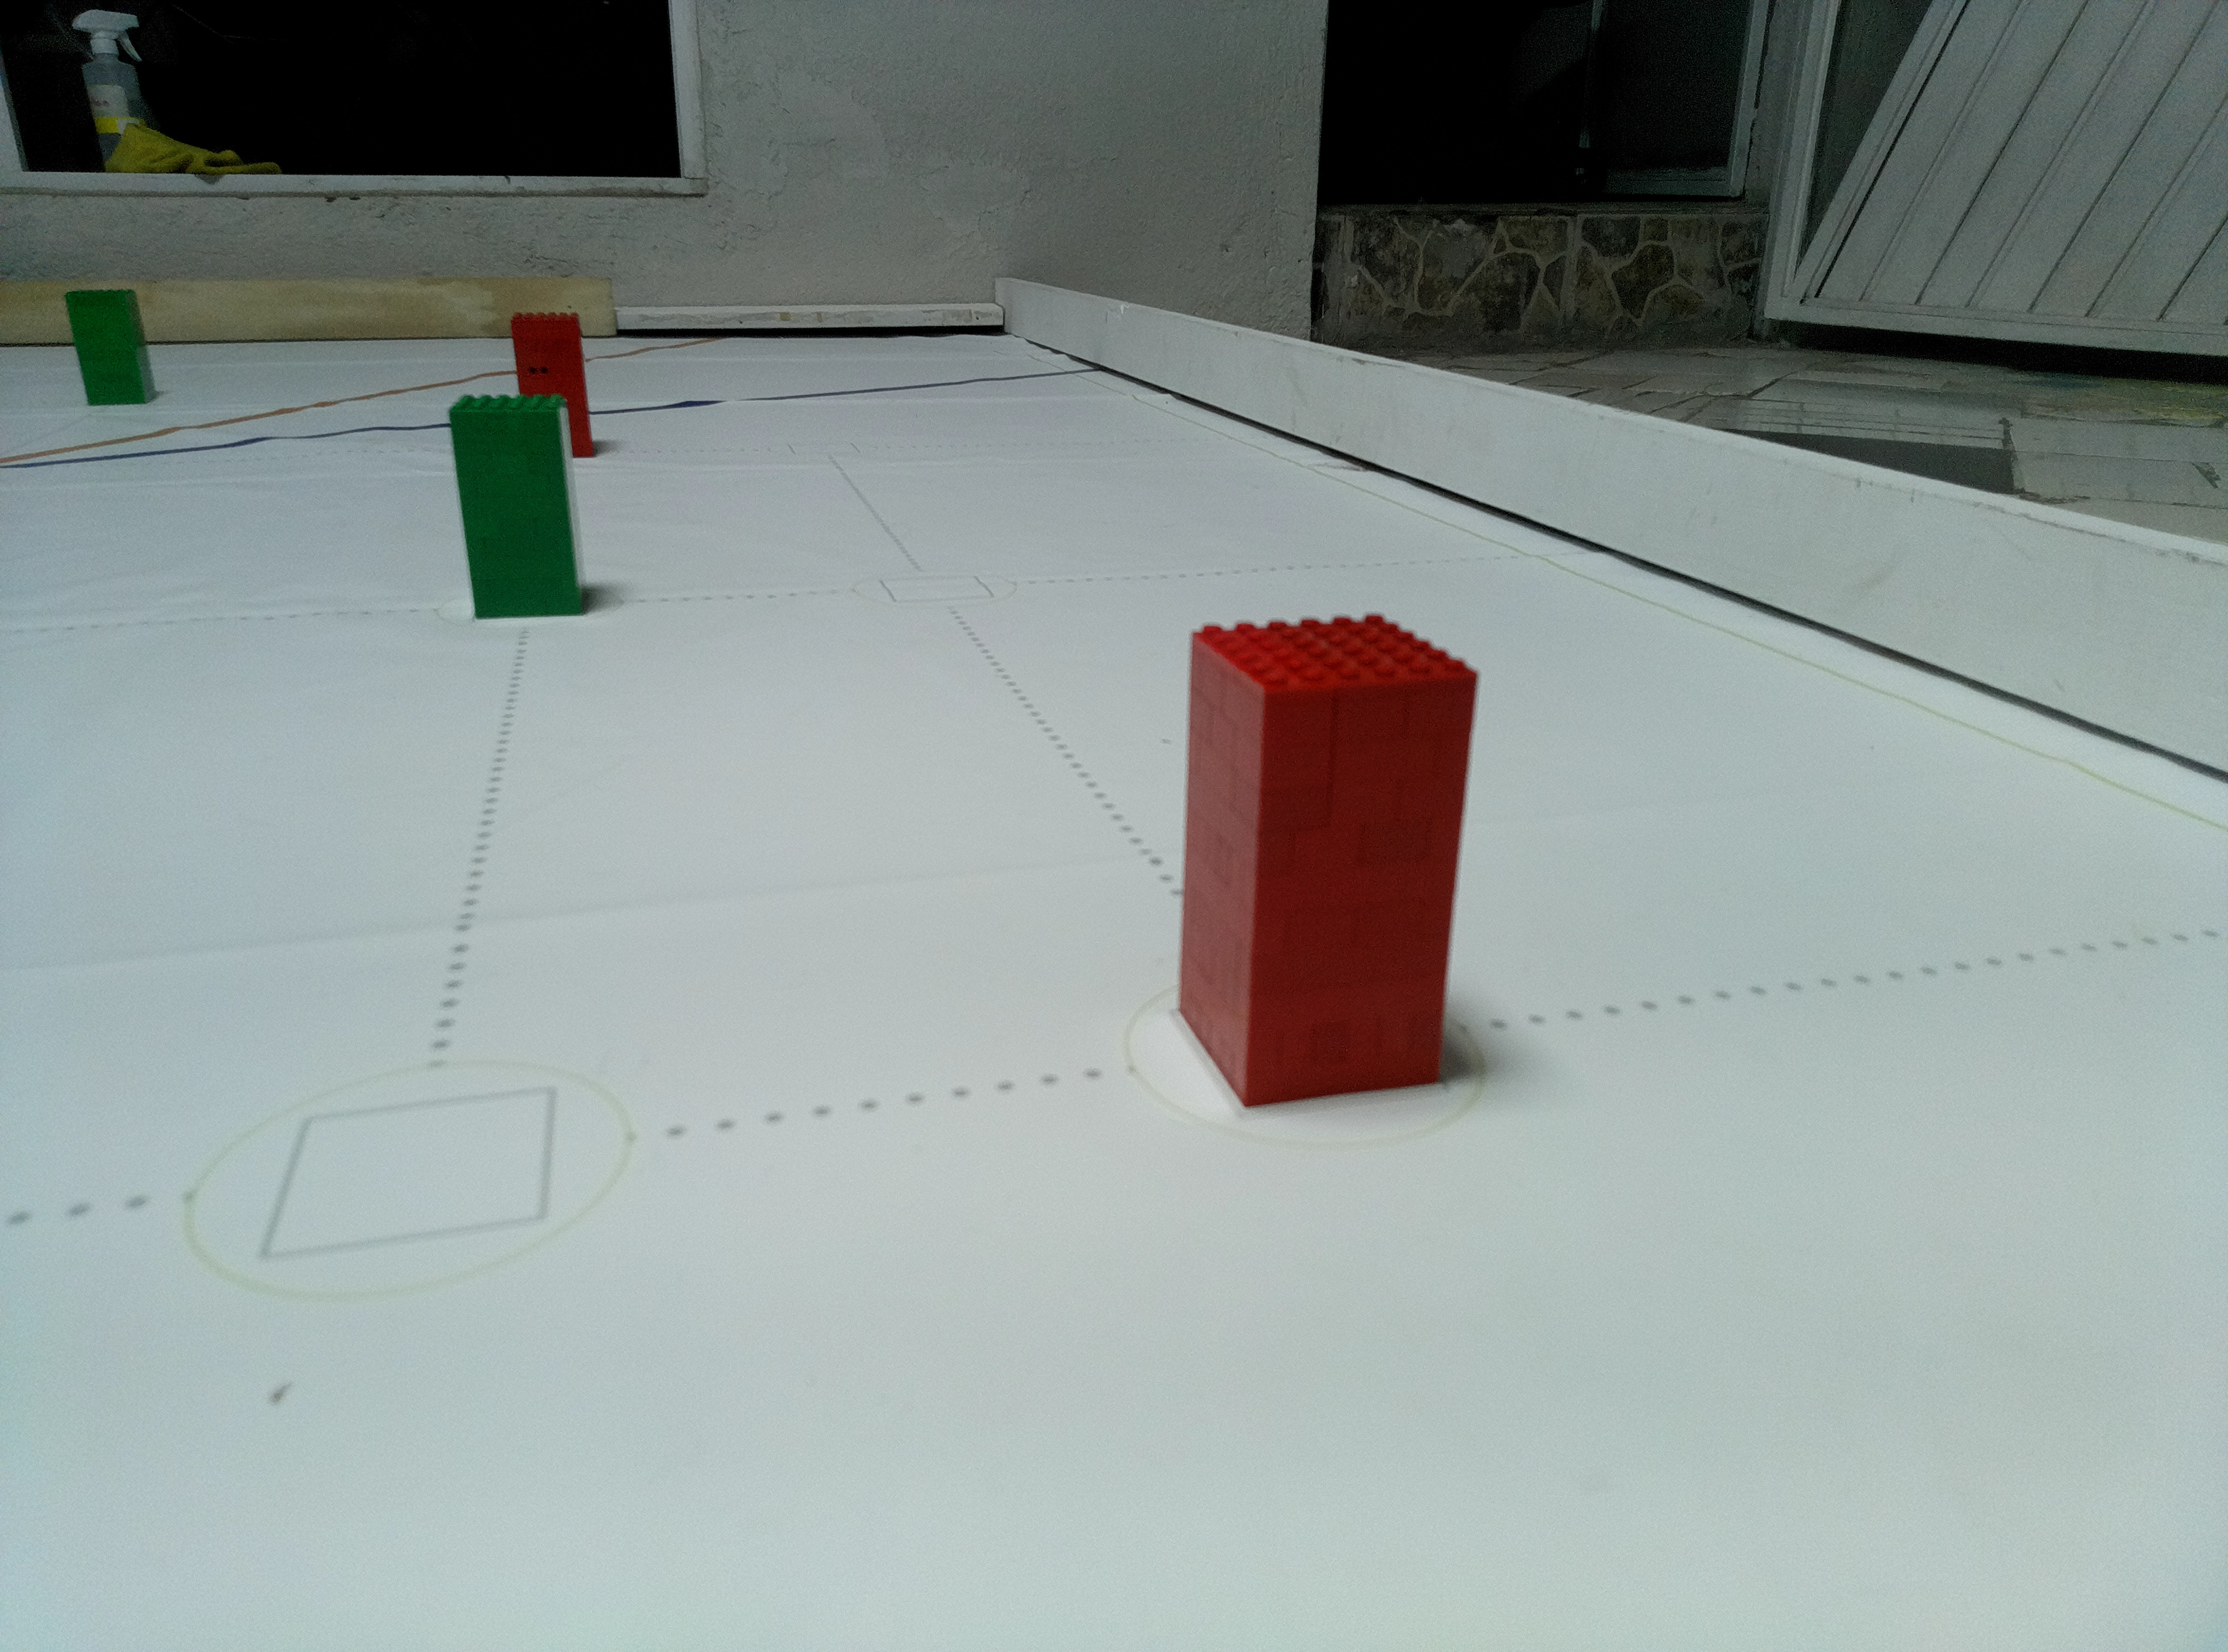greenbox: (446, 390, 590, 618), (64, 288, 158, 406)
redbox: (1171, 607, 1482, 1112), (508, 309, 597, 460)
